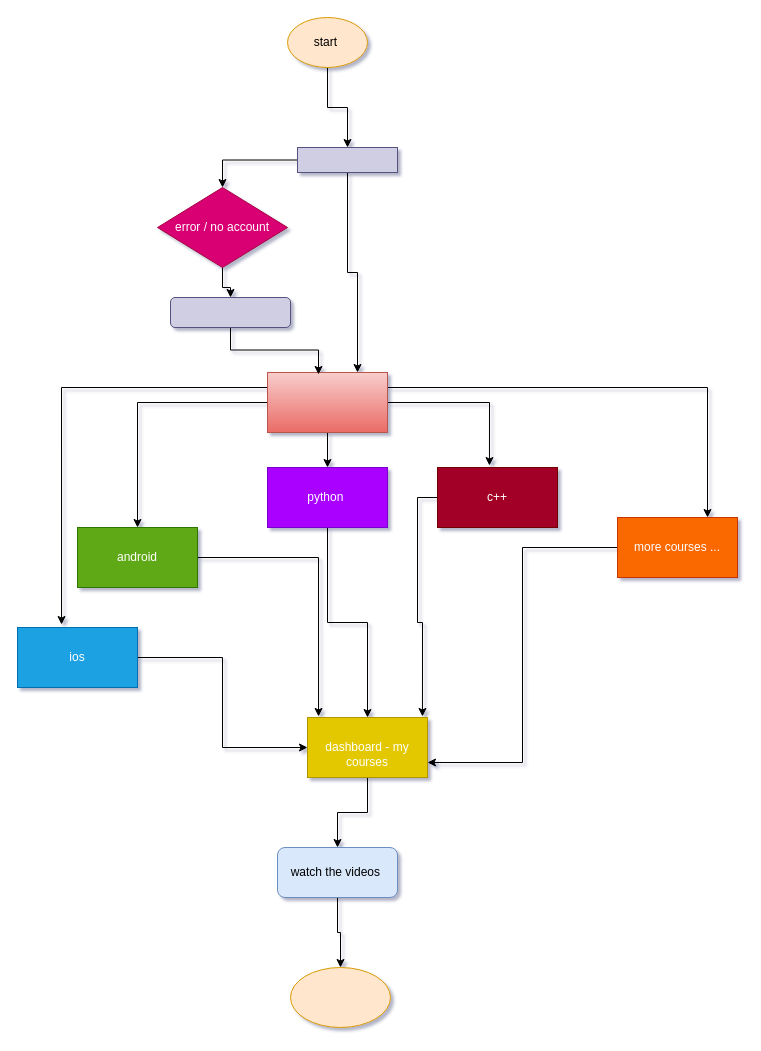
The diagram is 761 pixels wide and 1051 high, and some of its shapes have lost their labels. The centre of each missing label's shape, as x and y in pixels:
choose the course: point 327,402
end: point 340,997
sign in: point 347,159
Sign up: point 230,312
